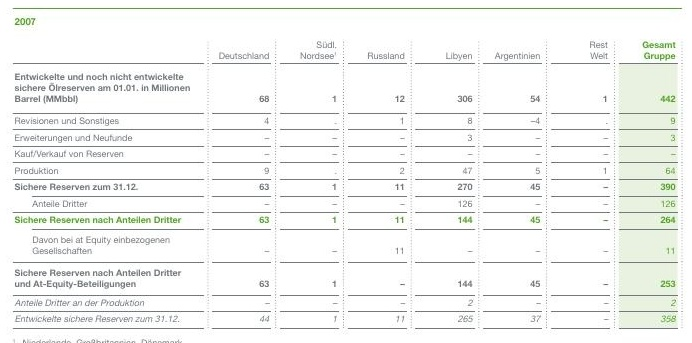table: (0, 0, 692, 343)
